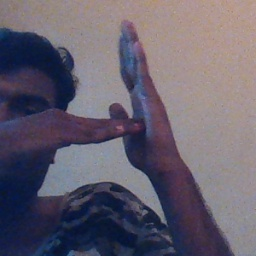Z: (63, 18, 175, 180)
